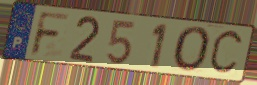1: (150, 22, 170, 70)
2: (68, 15, 100, 64)
5: (104, 18, 139, 66)
C: (207, 28, 246, 78)
F: (28, 10, 73, 58)
O: (171, 25, 213, 75)
